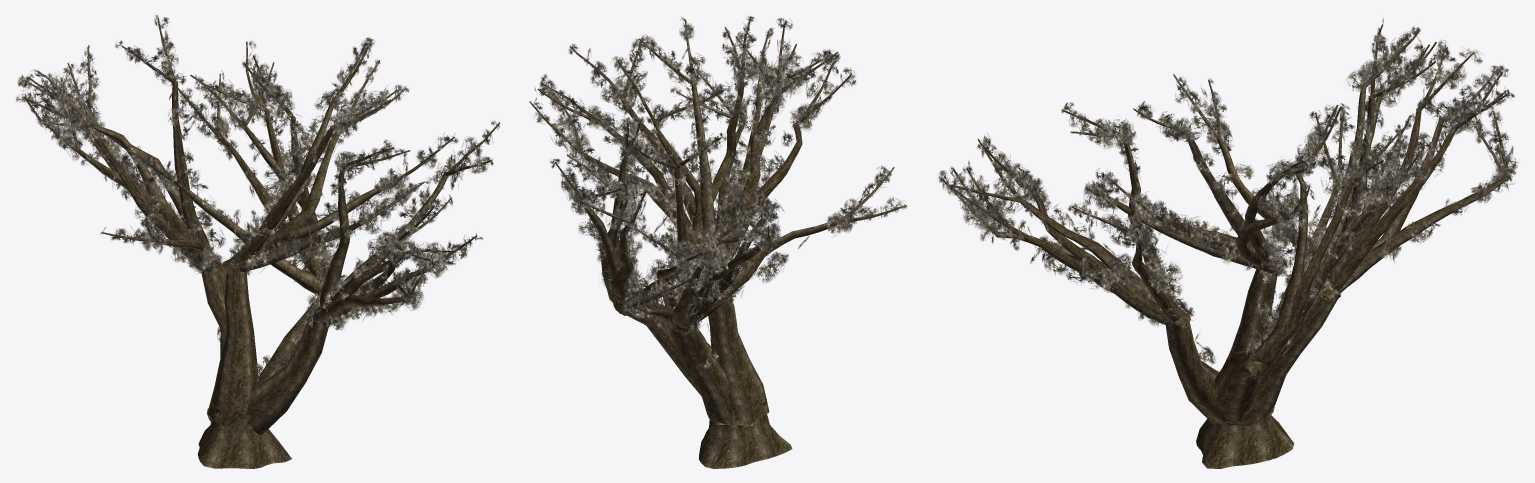
File: blossom_3x_4.glb
The picture shows the model from 3 angles, left to right: view 1: azimuth 30°, elevation 25°; view 2: azimuth 150°, elevation 25°; view 3: azimuth 270°, elevation 25°; orthographic projection. The views are drawn at different scales.
Parts seen in each view (by area): view 1: blossom; view 2: blossom; view 3: blossom.
Boxes of the visible parts, box(x1,y1,x2,y2) form: blossom: box(16, 14, 500, 468); blossom: box(529, 16, 907, 468); blossom: box(938, 18, 1518, 468).
Bounding box in the file's own units: 51.29 × 50.72 × 66.06.
2 materials, 2 textured.
